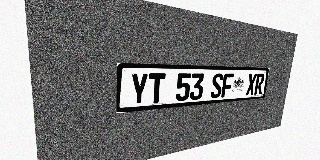3: (189, 73, 204, 100)
5: (176, 73, 191, 101)
F: (221, 73, 234, 98)
R: (254, 74, 265, 95)
S: (210, 73, 224, 99)
T: (148, 73, 166, 104)
X: (246, 74, 257, 95)
Y: (130, 73, 149, 105)
